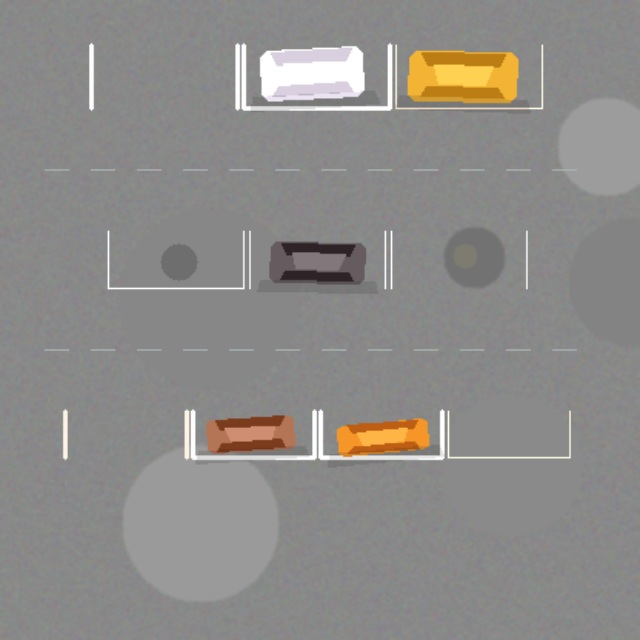space-empty: (91, 45, 237, 108), (108, 231, 243, 288), (391, 231, 526, 288), (65, 411, 186, 457), (448, 411, 569, 457)
space-occupied: (395, 45, 542, 108), (243, 45, 389, 108), (249, 231, 385, 288), (192, 411, 314, 457), (320, 411, 442, 457)
